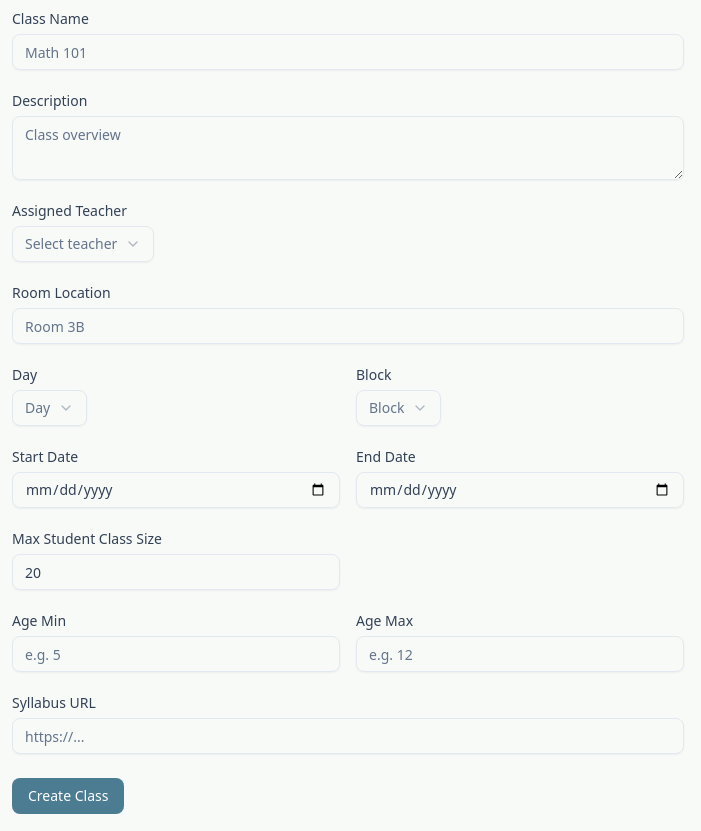
Scenario: SchedulerClassForm › renders the correct block options (1-4 only)
This screenshot has width=701, height=831.
Open the Block Select
Click the dropdown labelled "Block".
click(399, 408)  # box [356, 390, 441, 426]
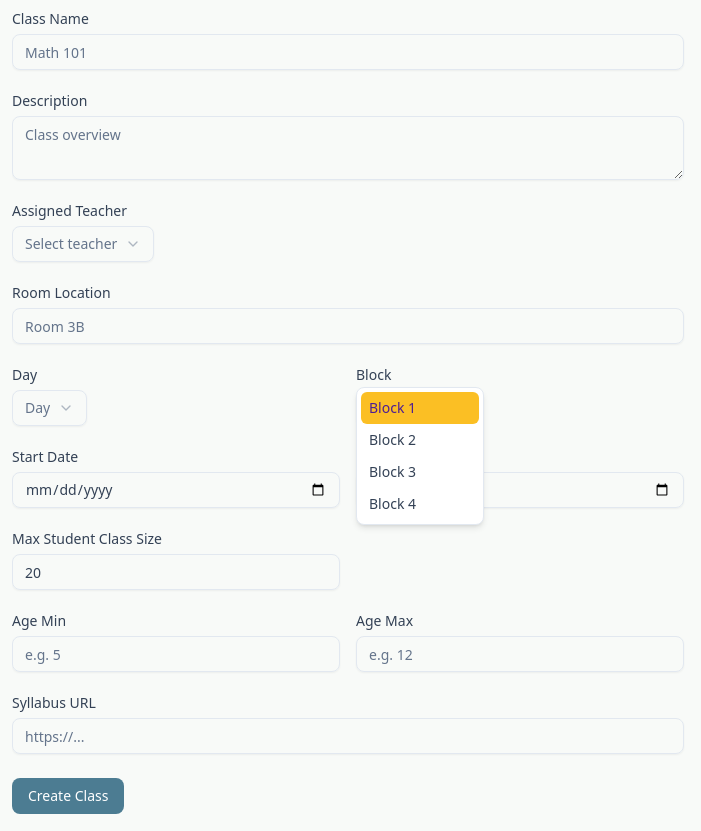
Expected: the text "Block 1" is shown, [369, 398, 416, 418]
Expected: the text "Block 2" is shown, [369, 430, 416, 450]
Expected: the text "Block 3" is shown, [369, 462, 416, 482]
